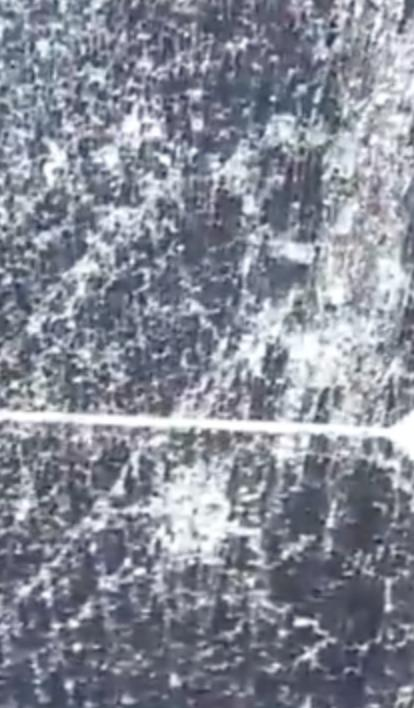Crack: (1, 2, 414, 696)
